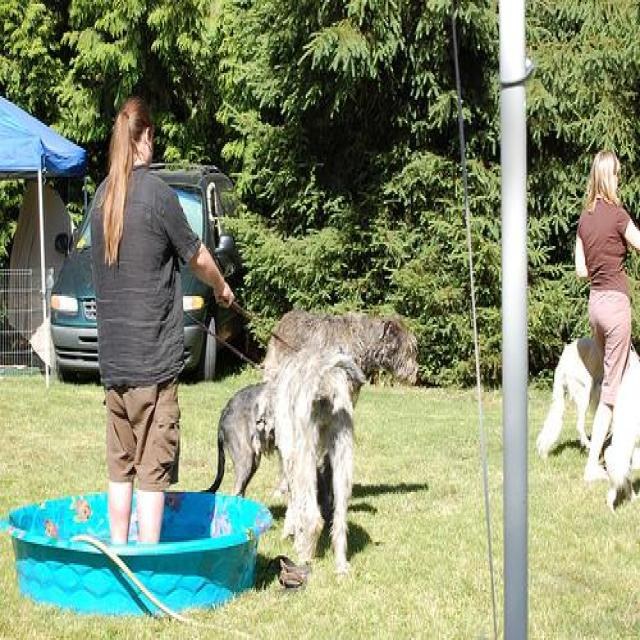irish_wolfhound: (270, 302, 421, 572), (259, 354, 362, 567)
